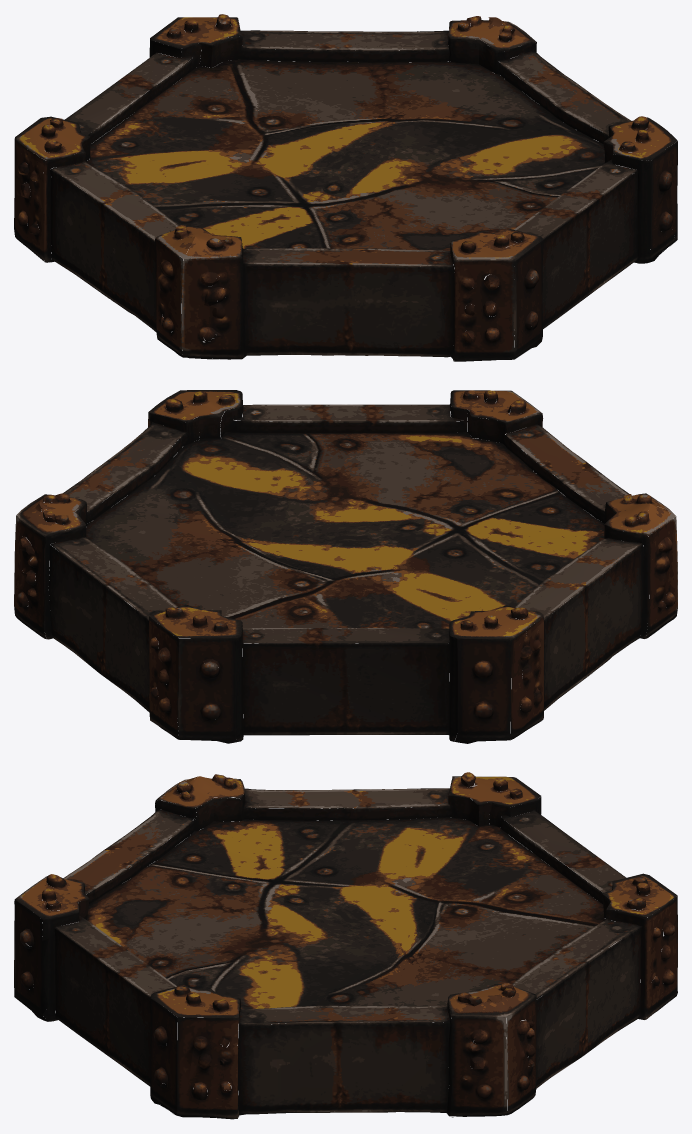
Rendered from tr_floor_5.glb.
The picture shows the model from 3 angles, top to bottom: view 1: azimuth 30°, elevation 25°; view 2: azimuth 150°, elevation 25°; view 3: azimuth 270°, elevation 25°; orthographic projection. The views are drawn at different scales.
Visible parts, largest first — view 1: tr_floor_5; view 2: tr_floor_5; view 3: tr_floor_5.
Boxes of the visible parts, x1,y1,x2,y2 form: tr_floor_5: [14, 14, 677, 361]; tr_floor_5: [14, 390, 677, 743]; tr_floor_5: [14, 772, 677, 1119].
Size of the model in its own units: 1.33 by 0.2978 by 1.5.
Materials: 1 (1 with a texture image).
